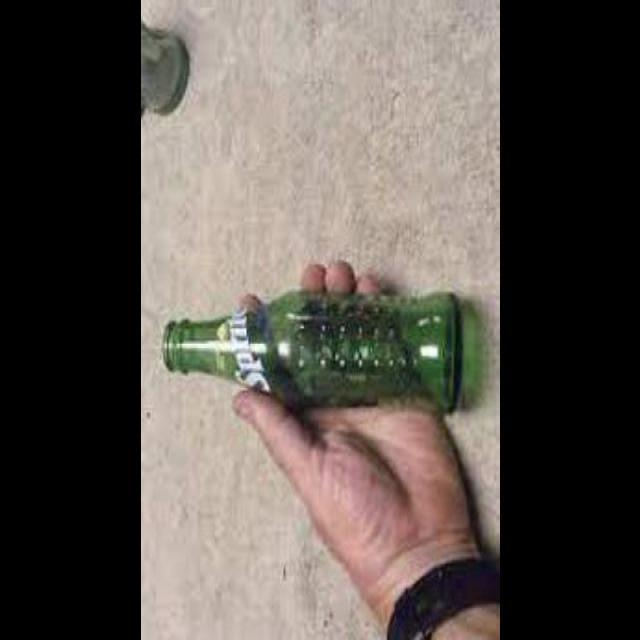Glass: (160, 288, 464, 418)
